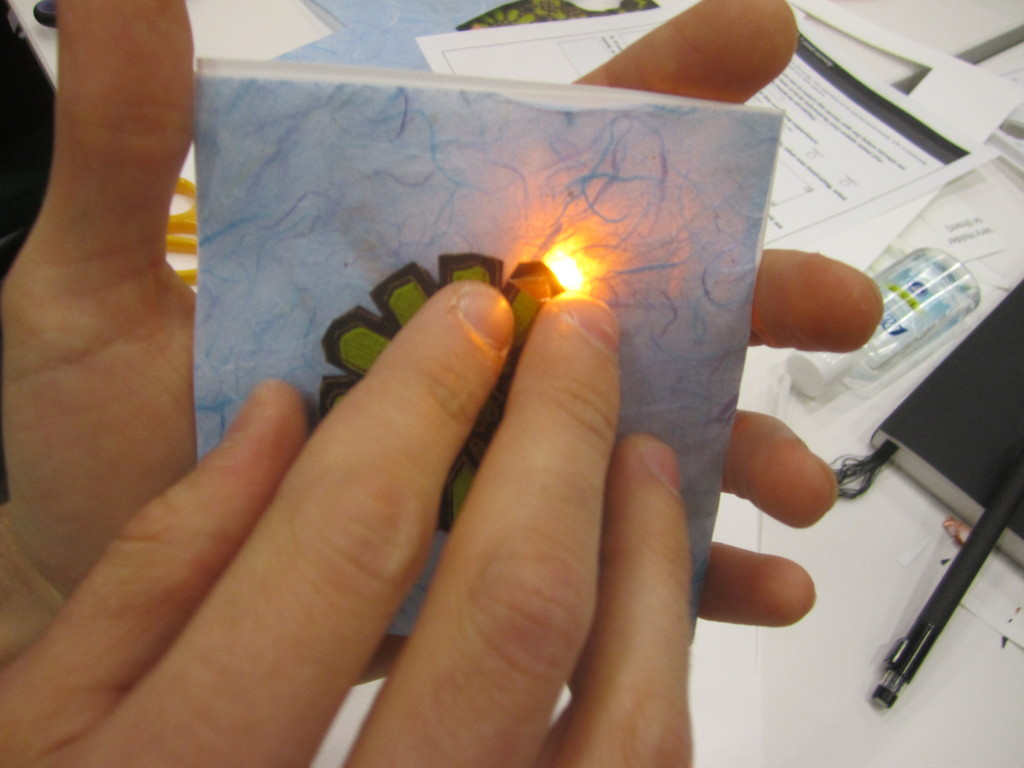Pen: (870, 452, 1023, 717)
